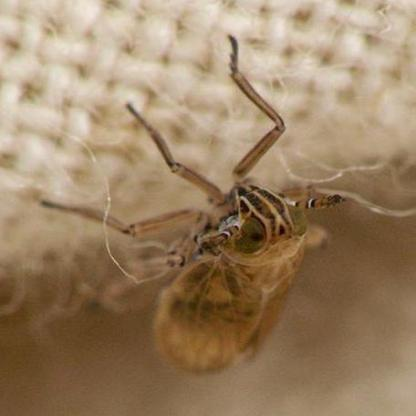brown-planthopper: (158, 182, 328, 371)
